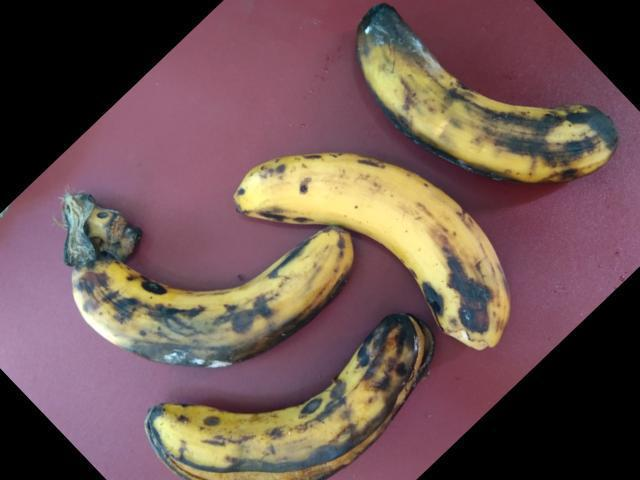overripe: (210, 138, 519, 362)
rotten: (132, 315, 451, 479), (333, 10, 626, 177), (41, 221, 357, 364)
